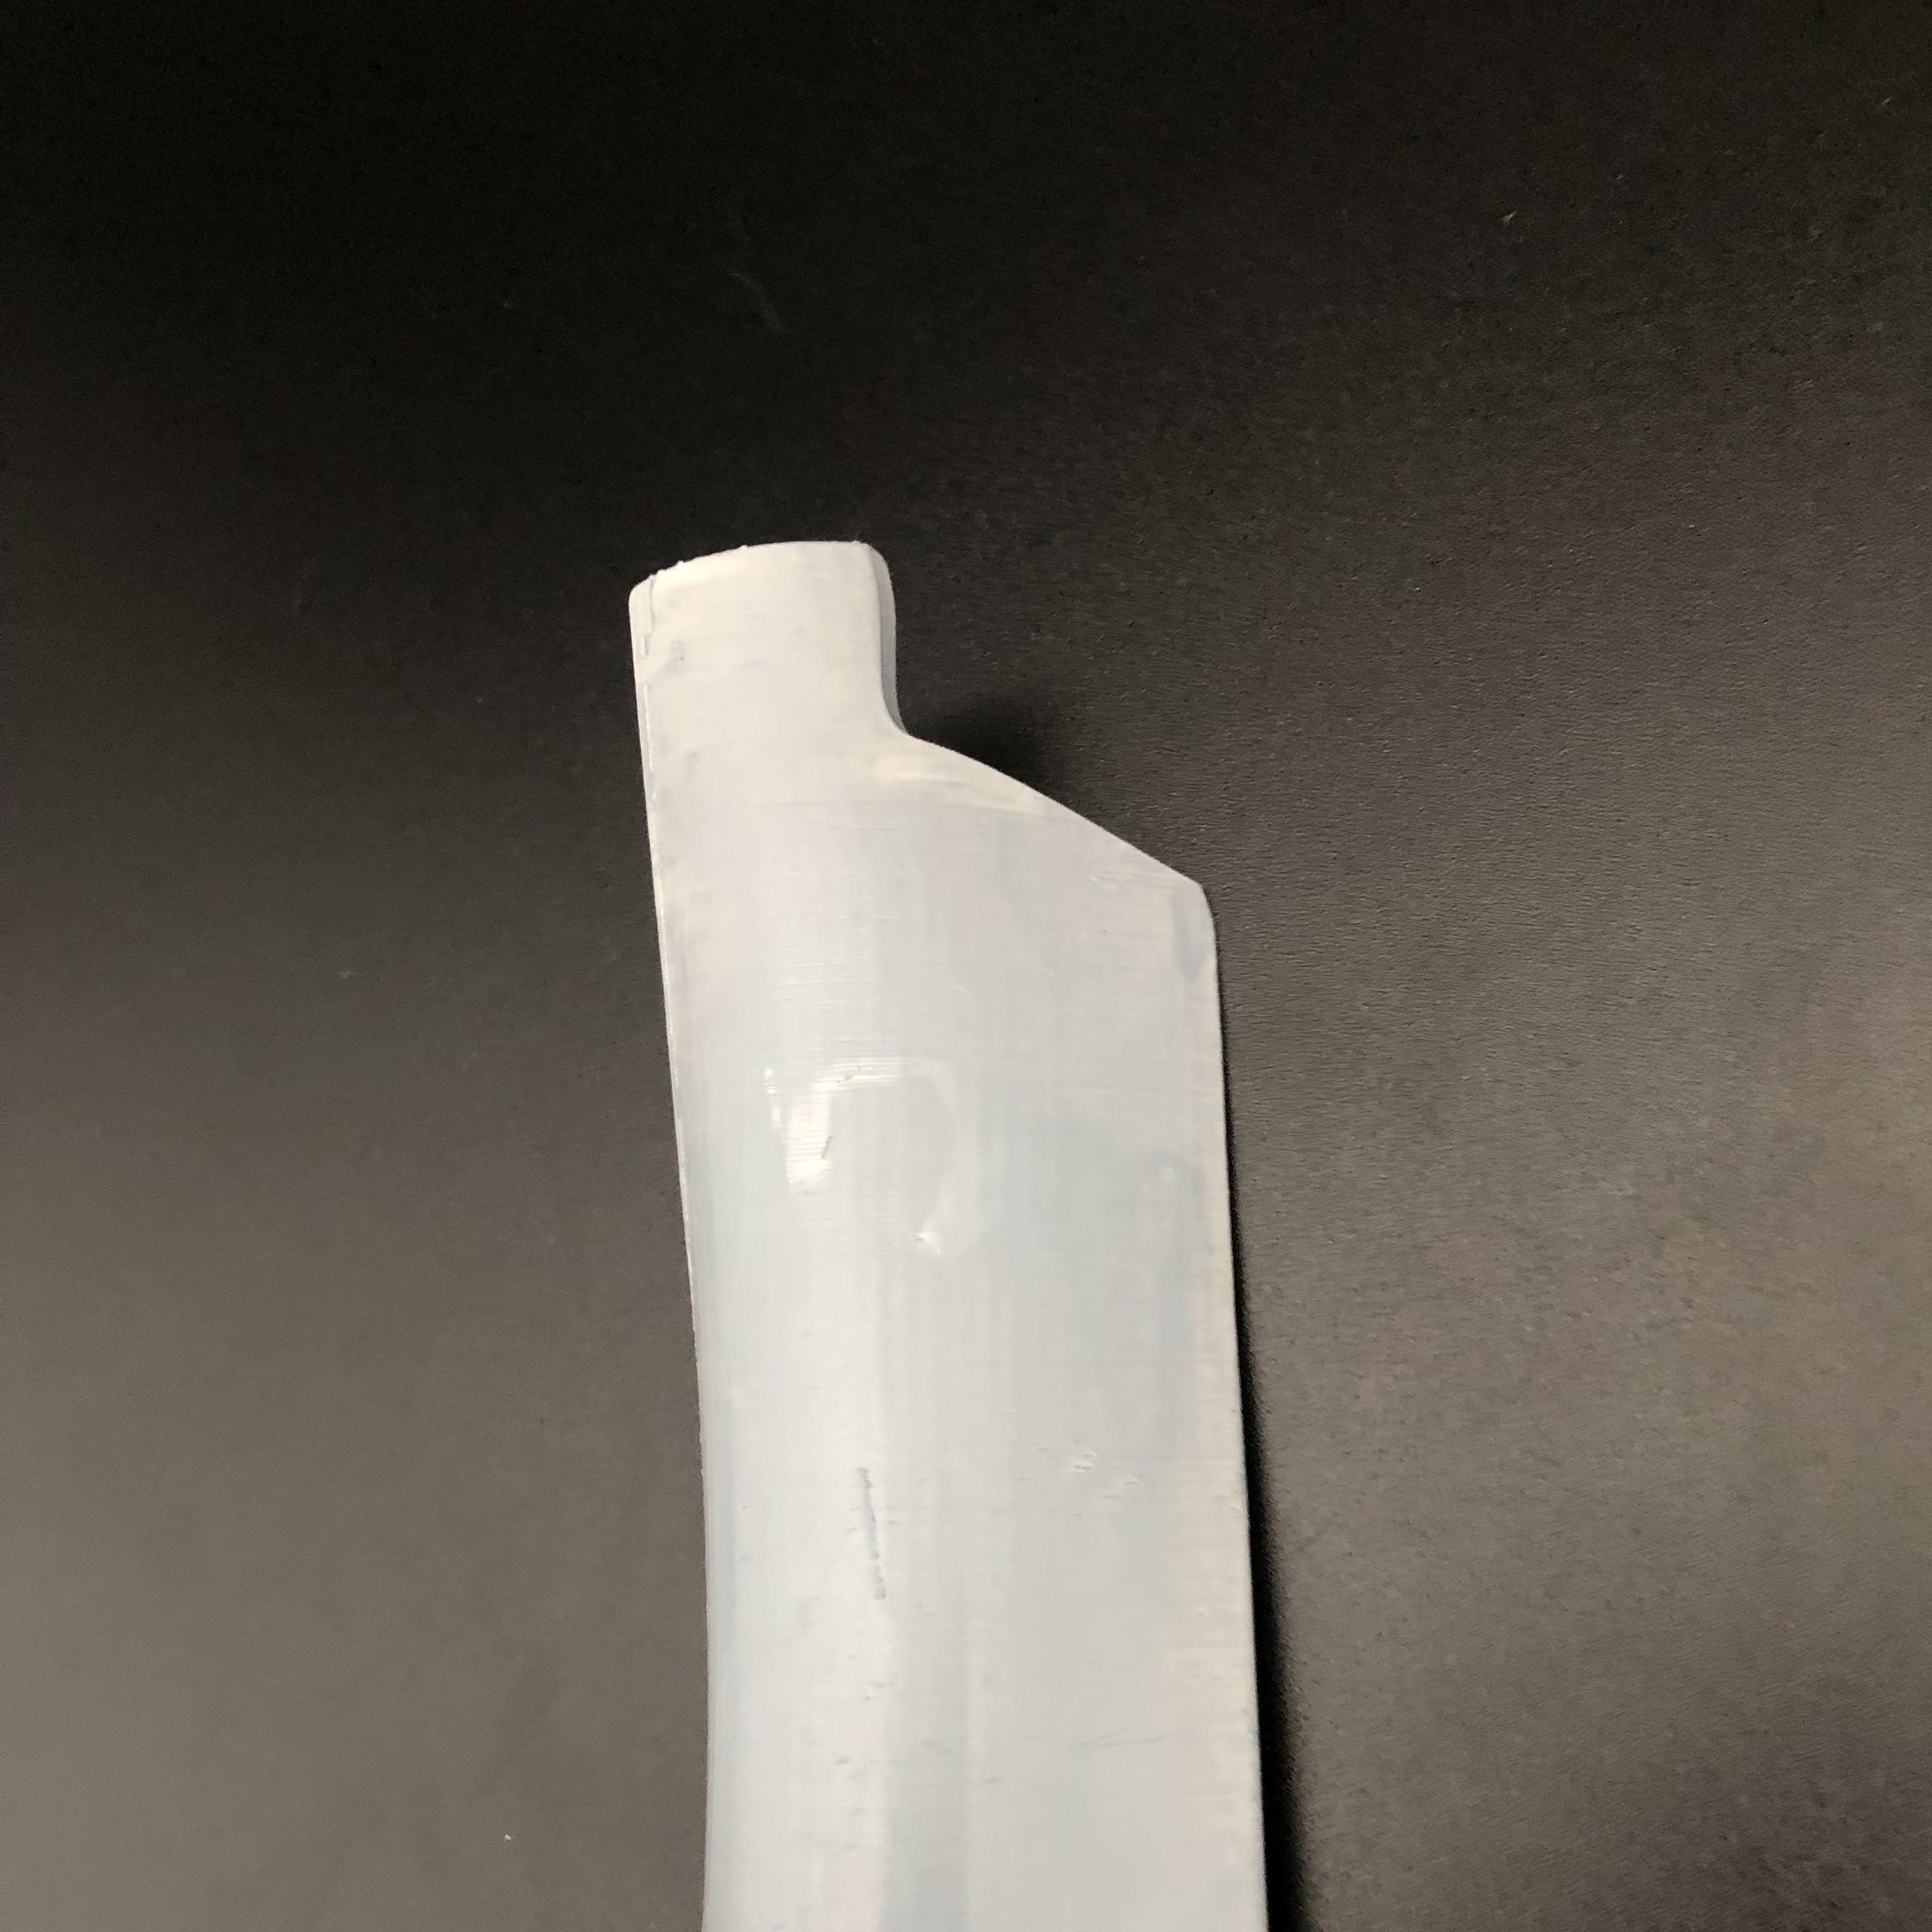fracture: (821, 568, 1201, 874)
